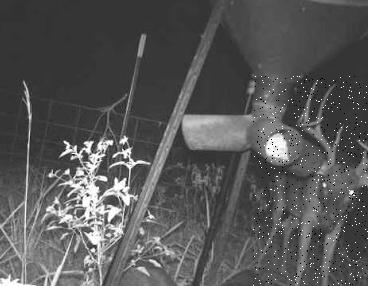Deer: (253, 76, 368, 286)
